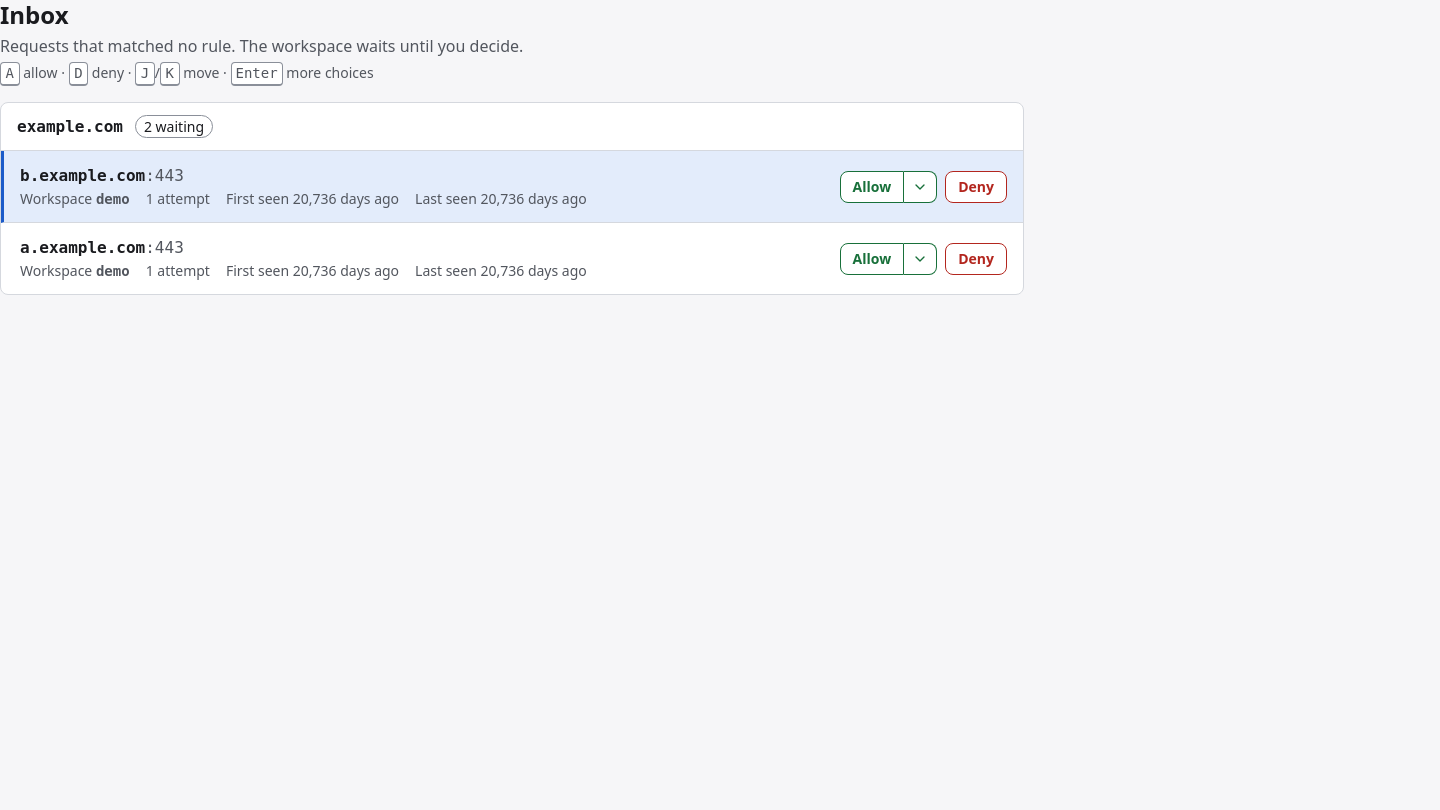
deciding with the buttons › mentions the other requests the rule closed
Expected: the heading "example.com" is shown, 17,116 -> 123,136
Click the button named "More choices for a.example.com" at (921, 258), box 904,242 -> 937,274
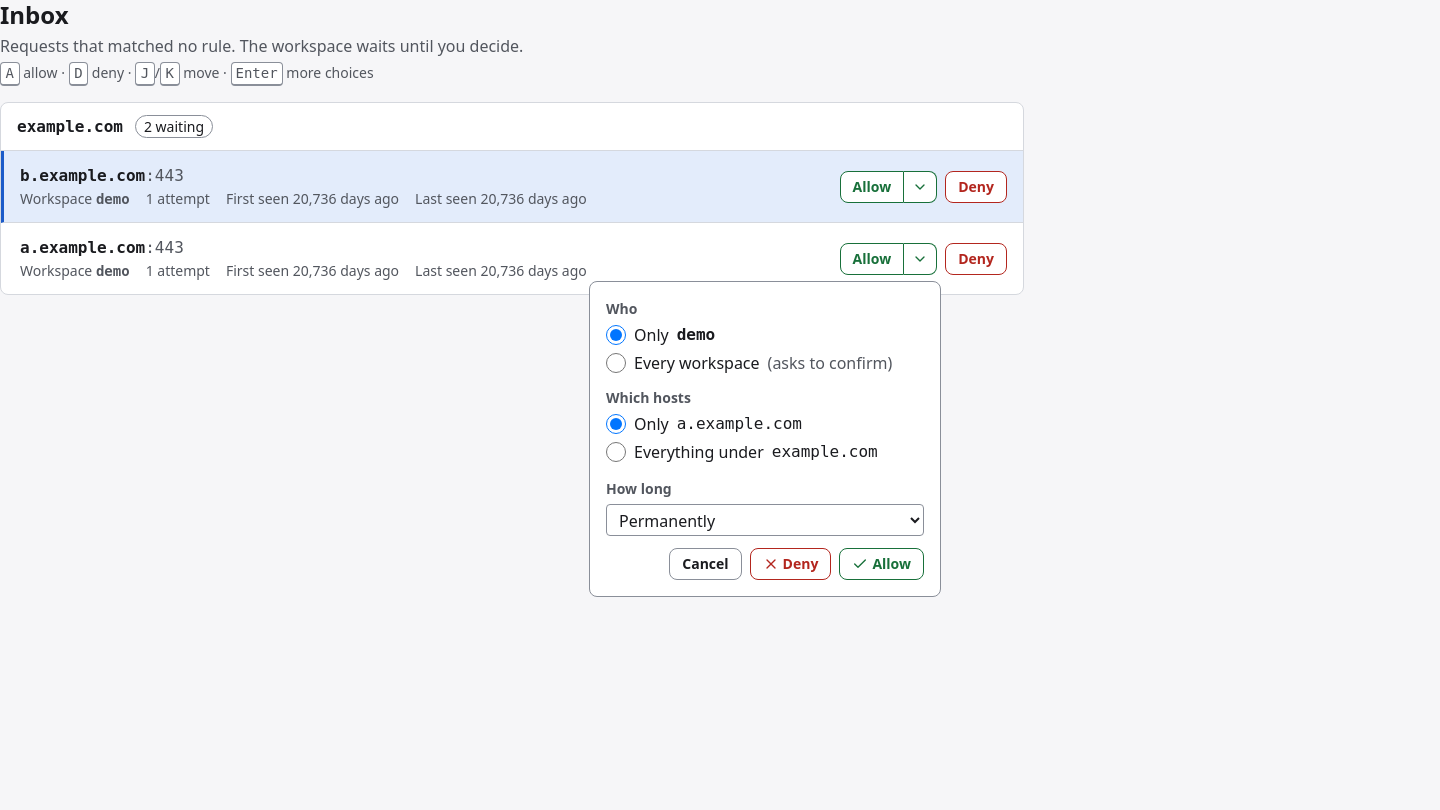
Click the radio button labelled "Everything under example.com" at (616, 452), box 606,442 -> 626,462
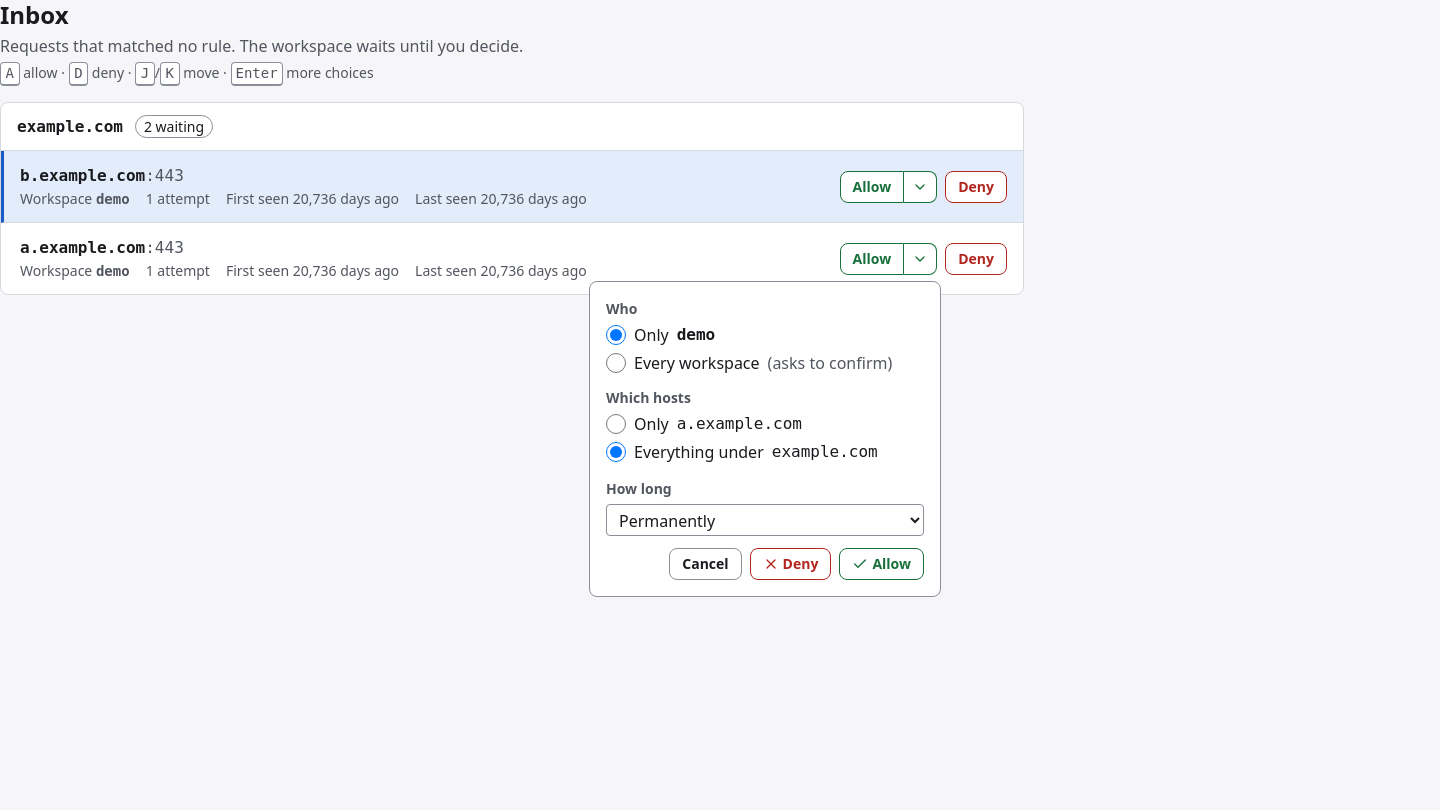
Click the button "Allow" below "How long" at (882, 564), box 839,548 -> 924,580
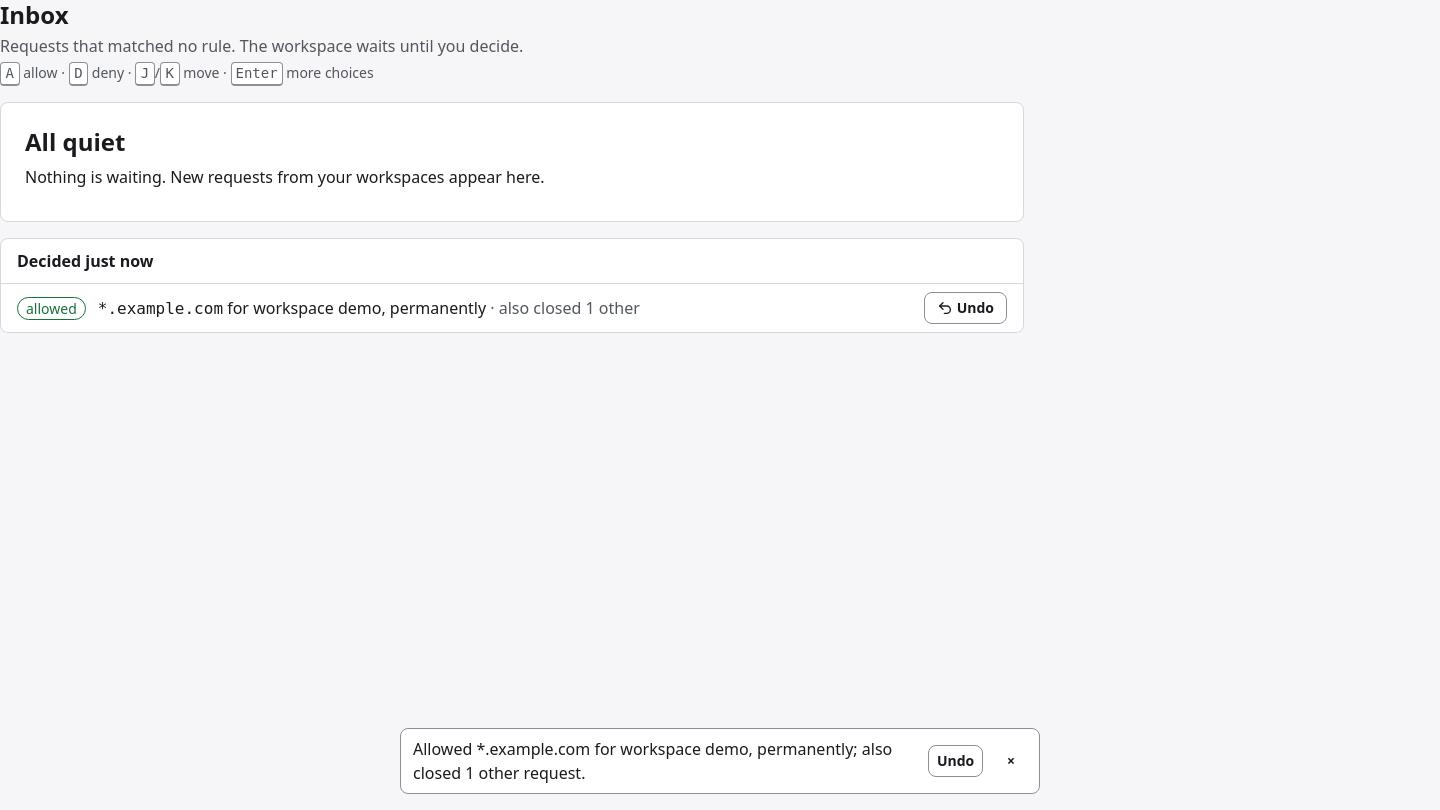
Expected: the message shows "also closed 1 other request", 413,738 -> 892,784
Expected: the heading "All quiet" is shown, 25,125 -> 125,158
Expected: the text "· also closed 1 other" is shown, 490,296 -> 640,318
